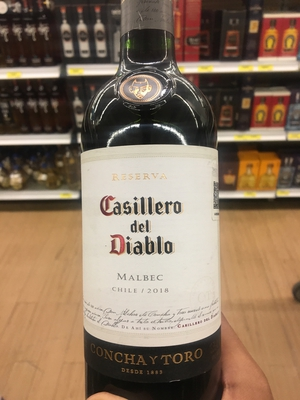casillero del diablo malbec: (65, 12, 230, 400)
